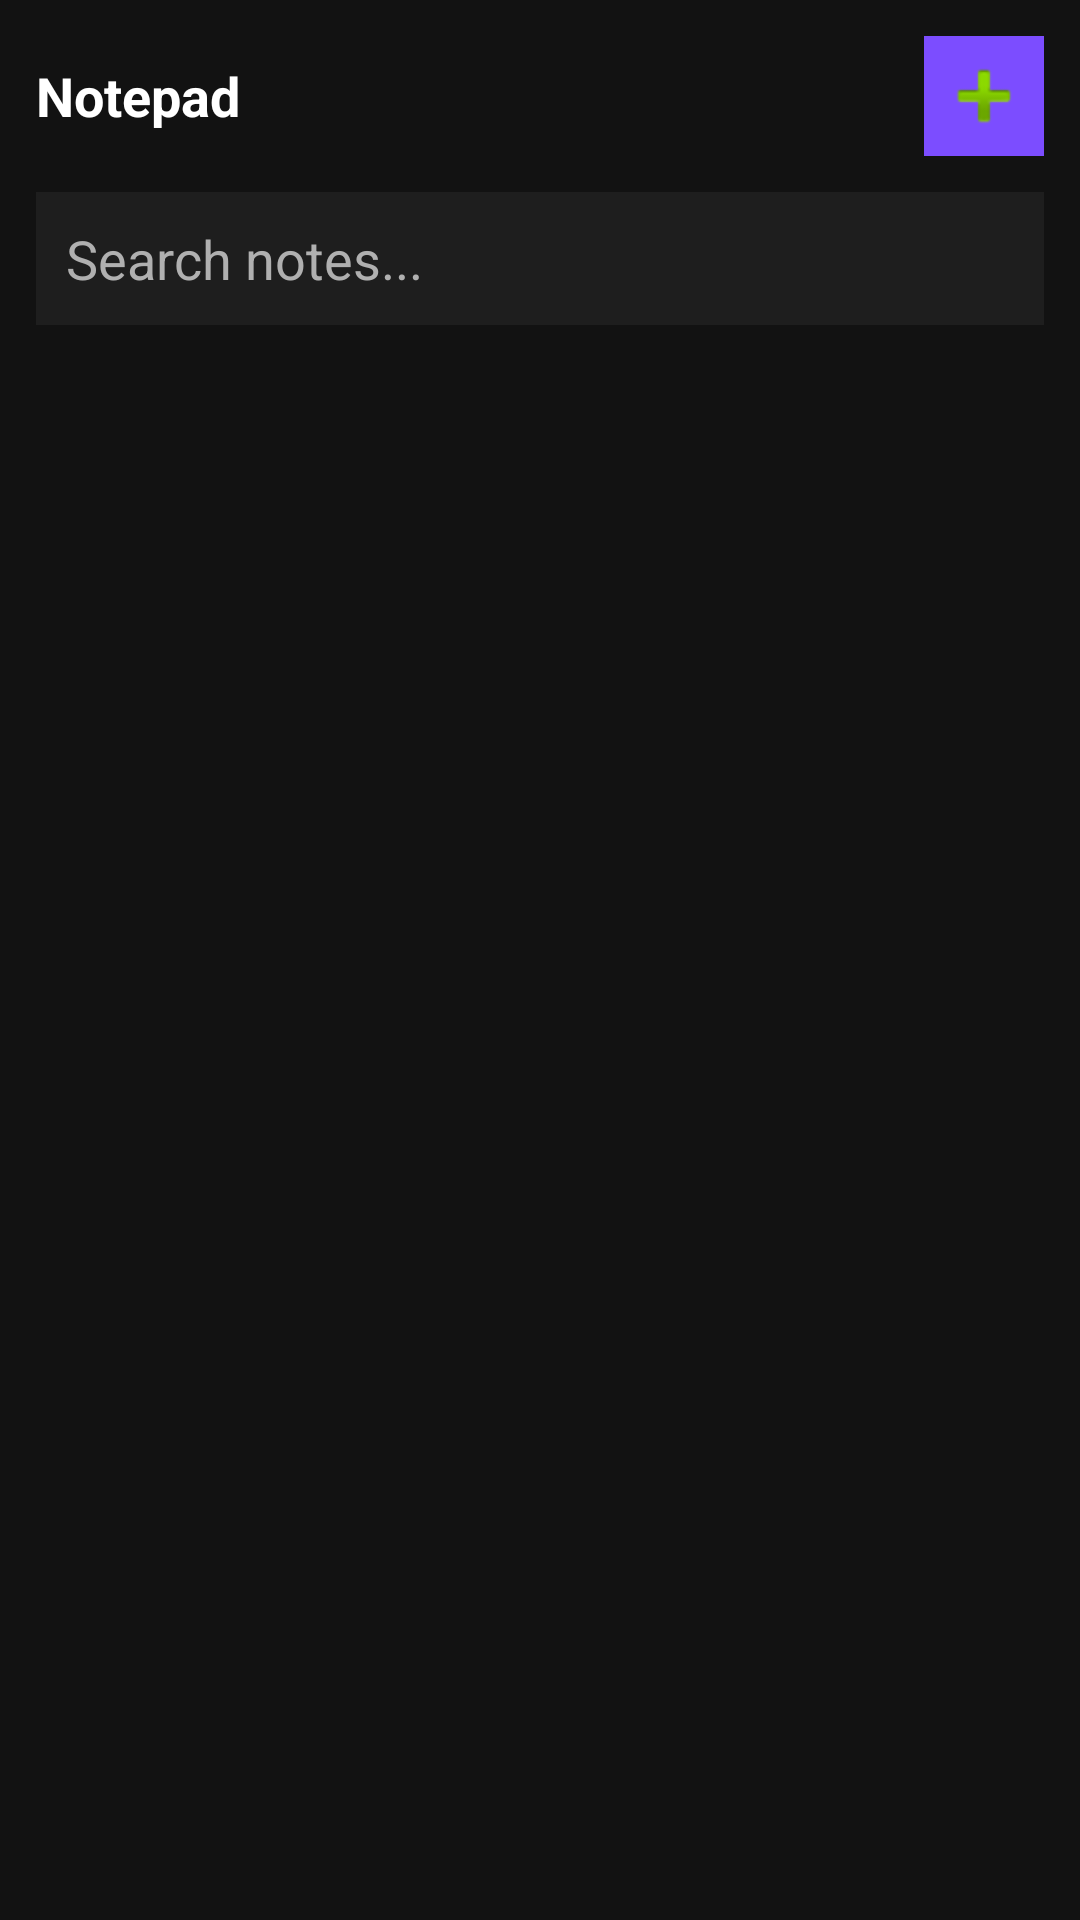

Icons on this 1080×1920 Android screen, each with the point to tap as point (x, y):
Add note: point (984, 96)
